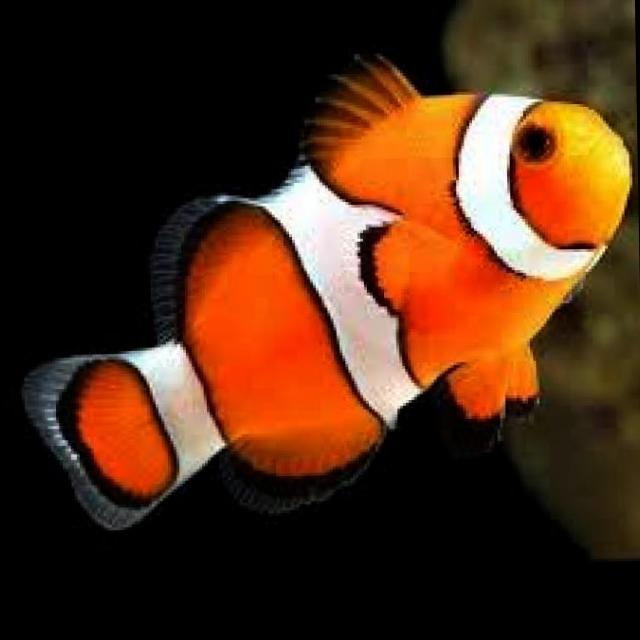ClownFish: (19, 45, 640, 531)
